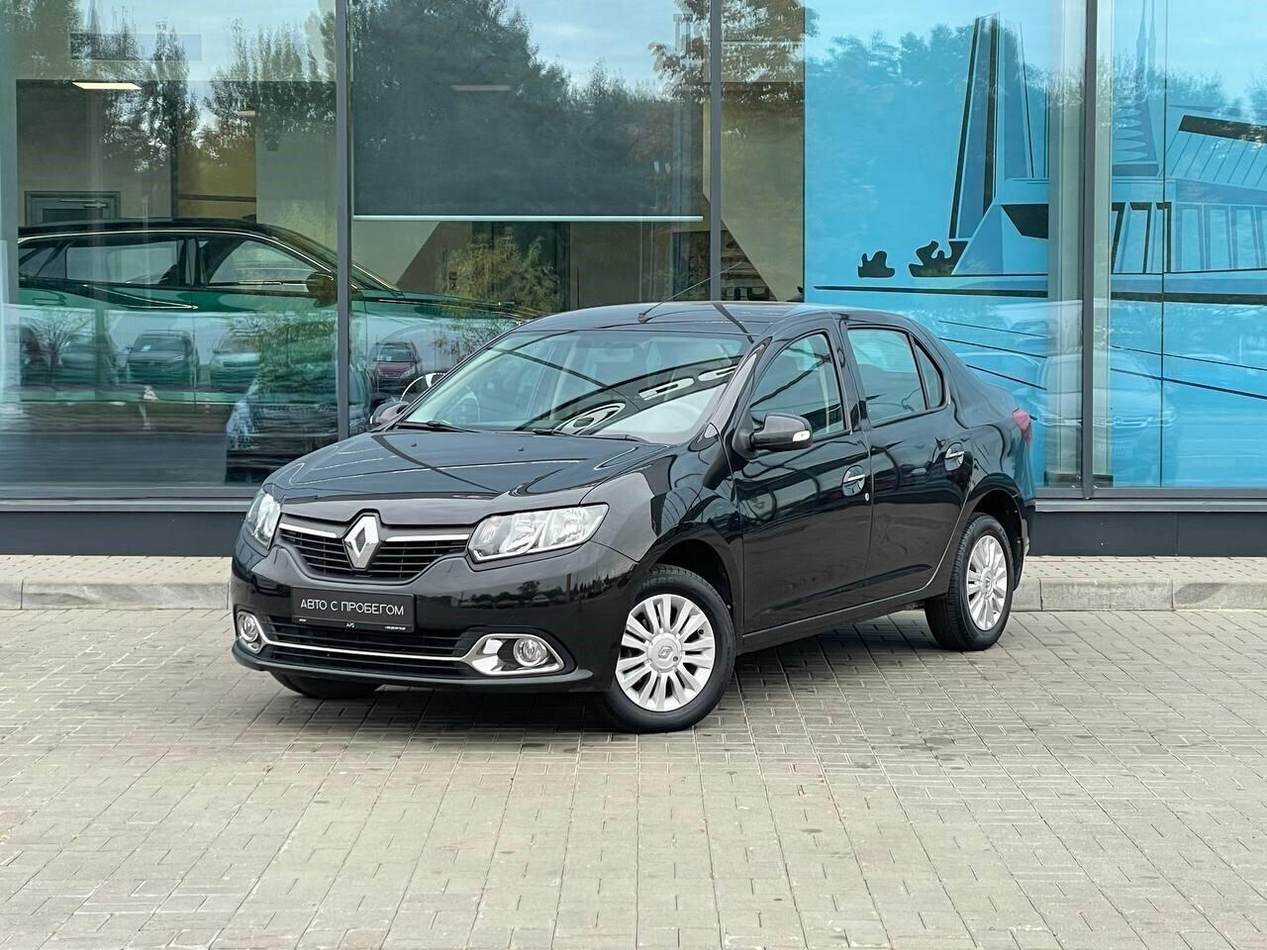Logan_2013-2018: (220, 299, 1048, 732)
